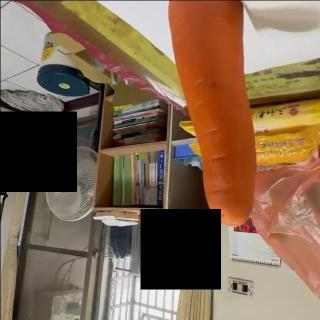carrot: (166, 0, 255, 225)
